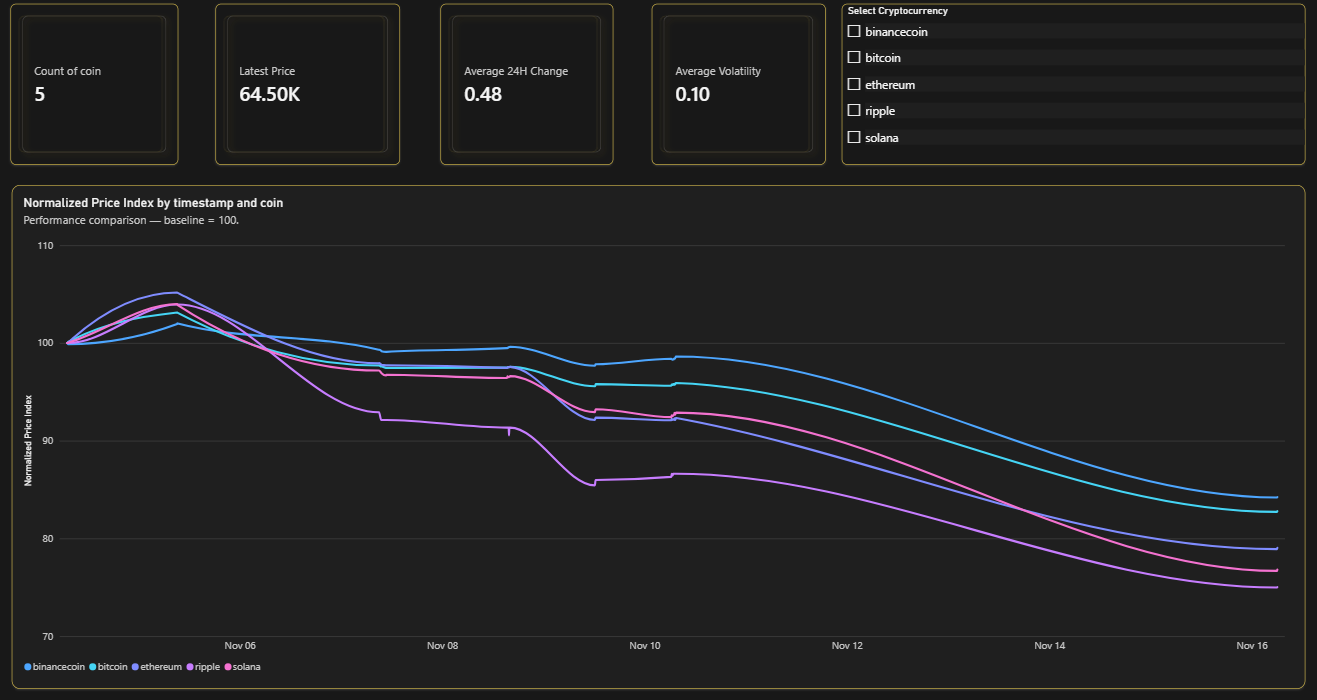

The page's visual inventory and layout, read from the dashboard file:
{"tool":"powerbi","page":{"name":"Market Overview","canvas":[1920,1080],"ordinal":0},"visuals":[{"type":"cardVisual","fields":{"Data":["Count(vw_CryptoAnalytics.coin)"]},"box":[32.9,20,240,230],"z":0},{"type":"cardVisual","fields":{"Data":["vw_CryptoAnalytics.Latest Price"]},"box":[325.7,20,264.3,230],"z":1000},{"type":"cardVisual","fields":{"Data":["vw_CryptoAnalytics.Average Volatility"]},"box":[948.6,20,248.6,230],"z":2000},{"type":"cardVisual","fields":{"Data":["vw_CryptoAnalytics.Average 24H Change"]},"box":[647.1,20,247.1,230],"z":3000},{"type":"slicer","fields":{"Values":["vw_CryptoAnalytics.coin"]},"box":[1221.4,20,268.6,230],"z":4000},{"type":"lineChart","fields":{"Category":["vw_CryptoAnalytics.timestamp"],"Series":["vw_CryptoAnalytics.coin"],"Y":["vw_CryptoAnalytics.Normalized Price Index"]},"box":[34,278.9,1850.6,720.6],"z":5000}]}

Visuals, with their boxes on the page's 1920x1080 design canvas (x1, y1, x2, y2). These are canvas units, not pixel positions in the 1317x700 screenshot, which may show the page scaled, cropped or inside an application window:
cardVisual - Count(vw_CryptoAnalytics.coin): x1=33 y1=20 x2=273 y2=250
cardVisual - vw_CryptoAnalytics.Latest Price: x1=326 y1=20 x2=590 y2=250
cardVisual - vw_CryptoAnalytics.Average Volatility: x1=949 y1=20 x2=1197 y2=250
cardVisual - vw_CryptoAnalytics.Average 24H Change: x1=647 y1=20 x2=894 y2=250
slicer - vw_CryptoAnalytics.coin: x1=1221 y1=20 x2=1490 y2=250
lineChart - vw_CryptoAnalytics.timestamp x vw_CryptoAnalytics.coin: x1=34 y1=279 x2=1885 y2=1000
